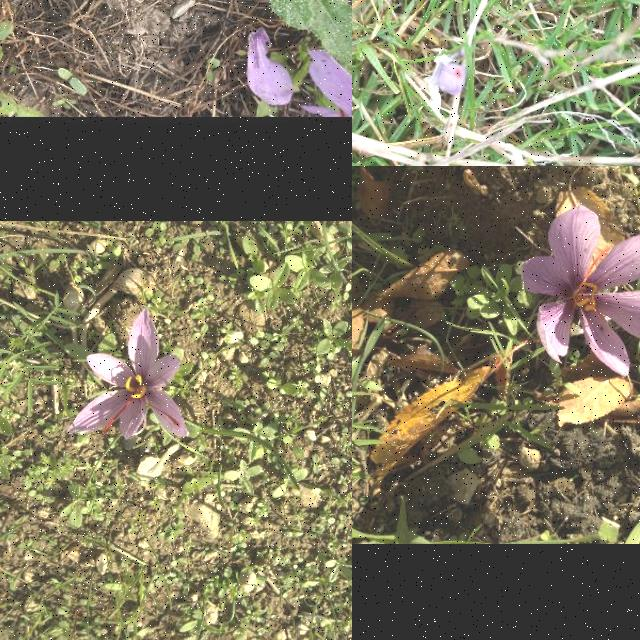flower: (519, 205, 640, 377), (68, 309, 190, 436), (437, 62, 469, 96)
